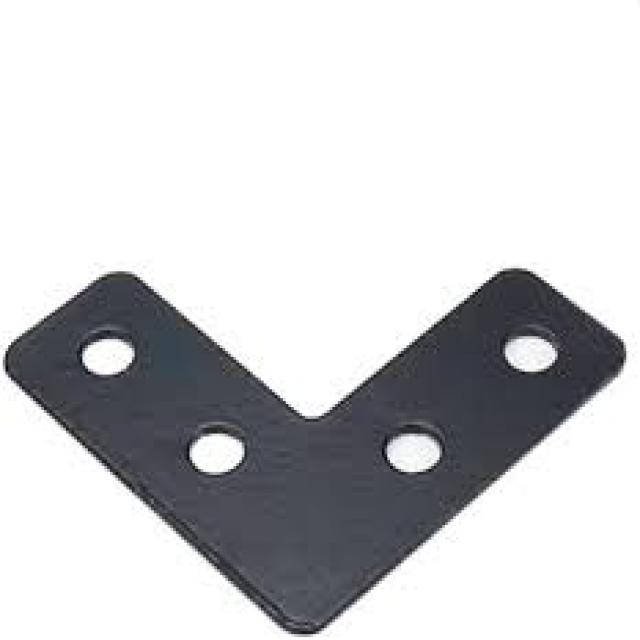holes: (184, 422, 244, 475), (382, 425, 442, 475), (77, 327, 135, 378), (500, 330, 558, 372)
